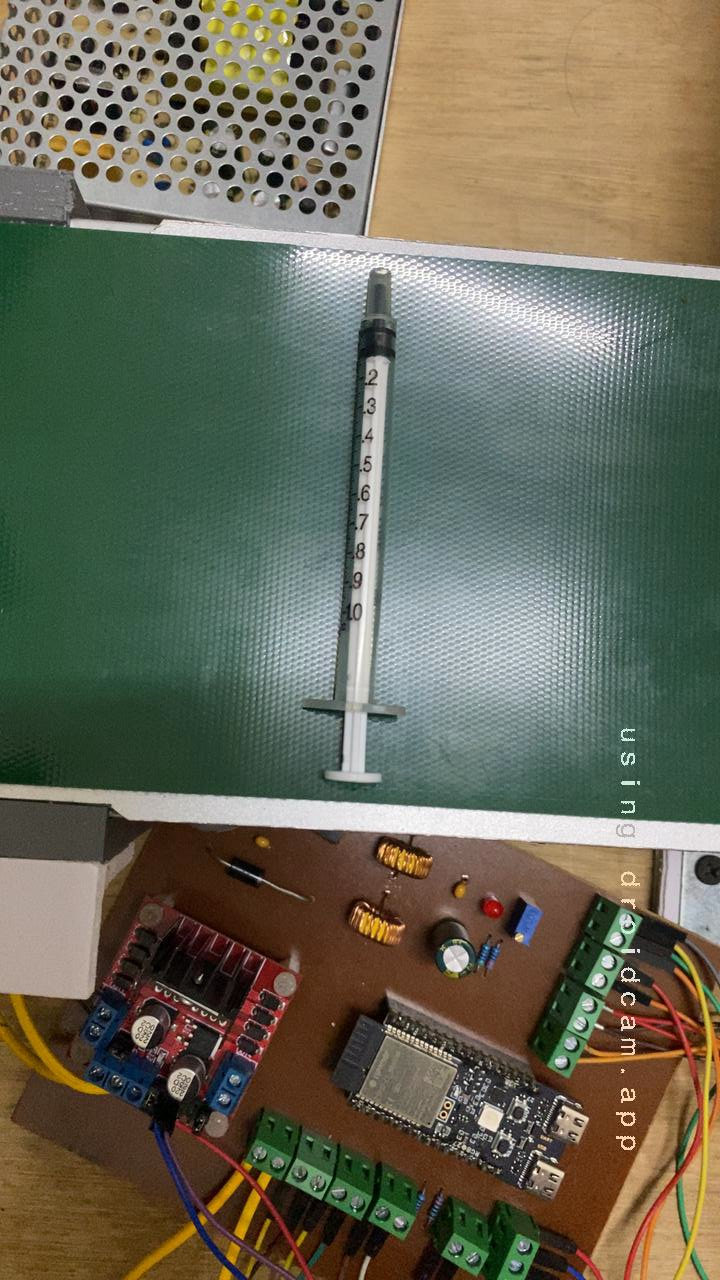syringe: (232, 267, 493, 811)
